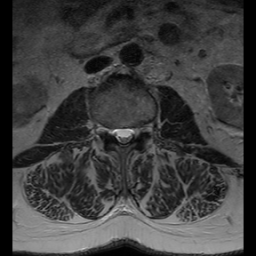CCS_normal: (120, 122, 127, 152)
LFS_normal: (134, 119, 142, 141)
LLS_normal: (127, 121, 134, 146)
RFS_stenosis: (104, 120, 112, 142)
RLS_normal: (112, 121, 120, 147)
